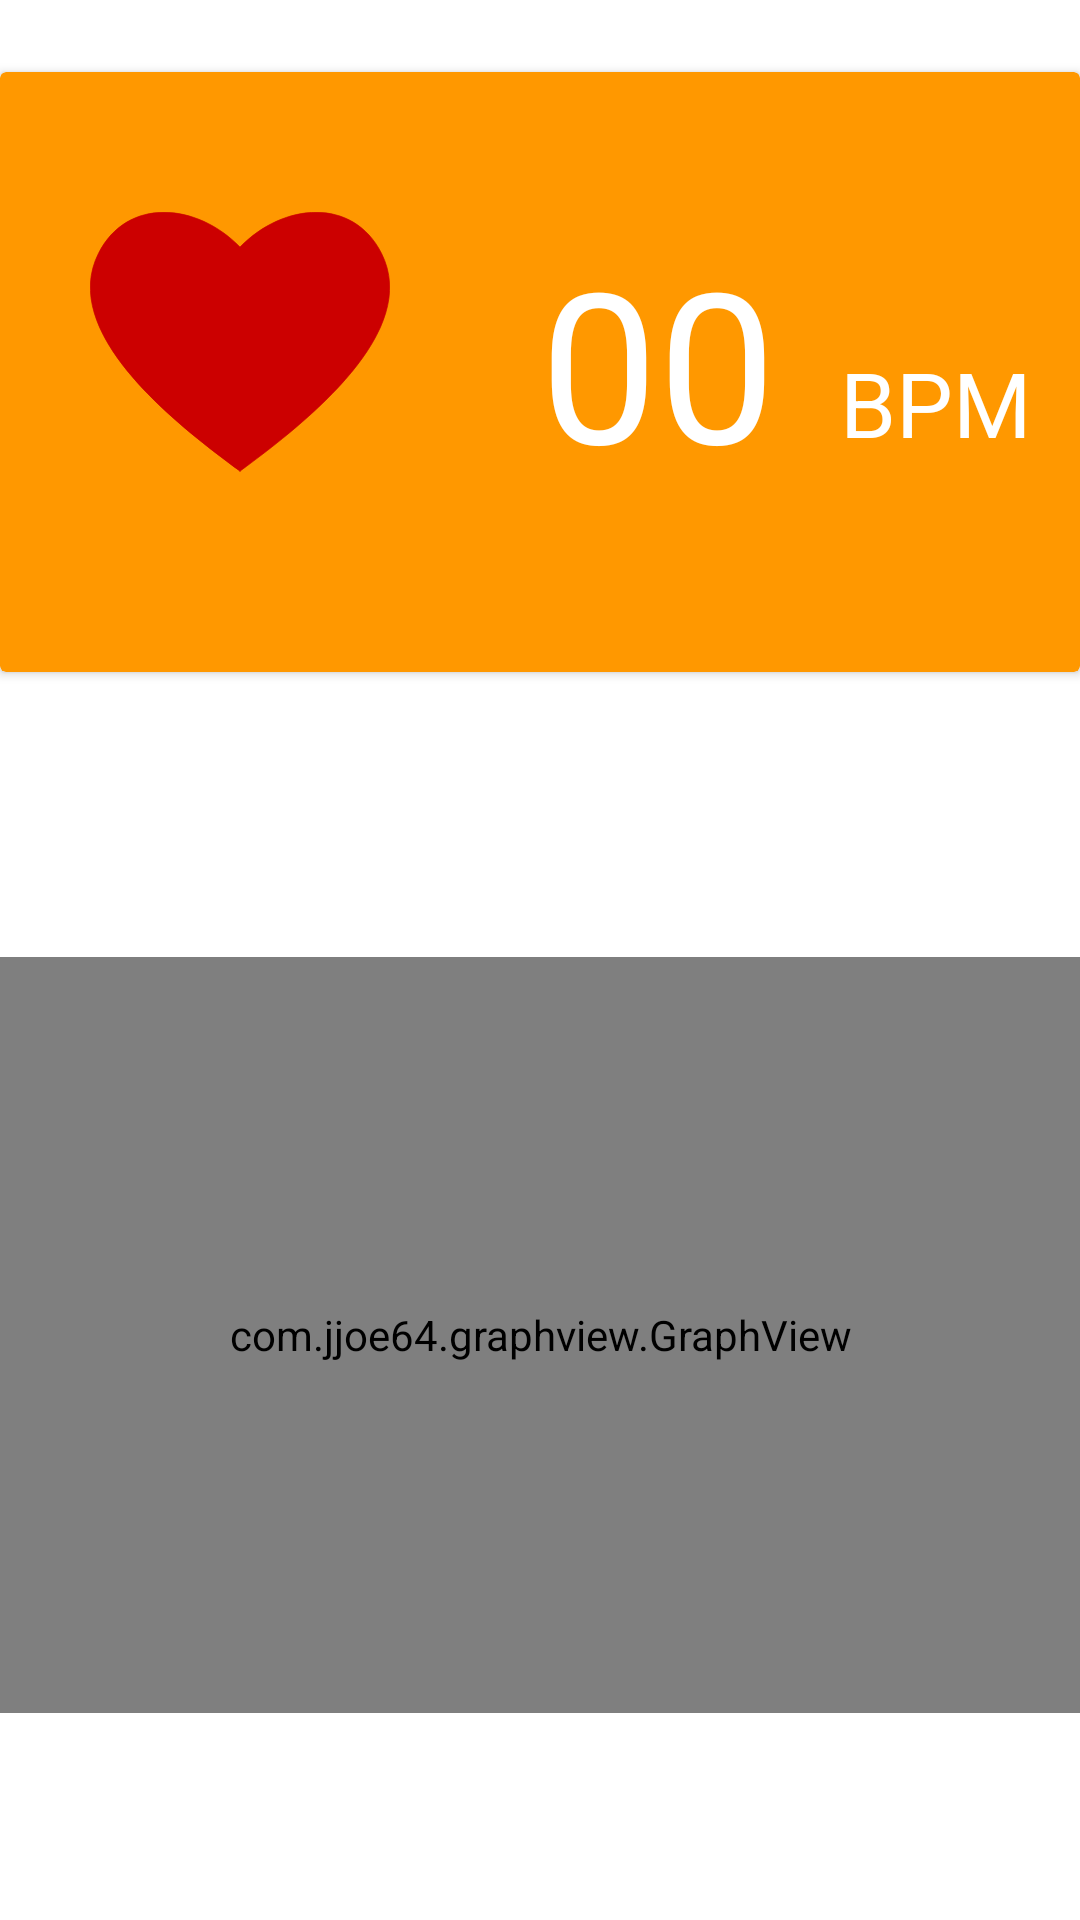

Icons on this 1080x1920 Android screen, each with its box as (x1, y1, x2, y2):
tmp heart: (90, 212, 390, 472)
